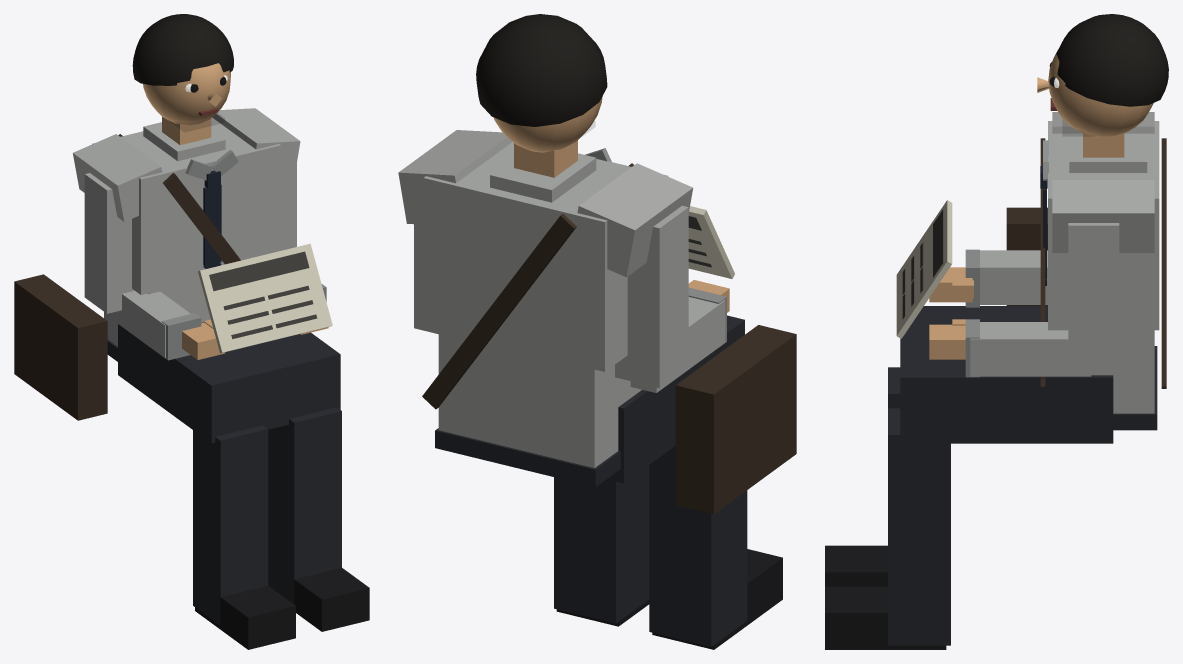
File: passenger_office_seated.glb
The picture shows the model from 3 angles, left to right: view 1: azimuth 30°, elevation 25°; view 2: azimuth 150°, elevation 25°; view 3: azimuth 270°, elevation 25°; orthographic projection. The views are drawn at different scales.
Visible parts, largest first — view 1: passenger_office_seated, HabitProp_paper, Head, Head_Skin, Body_Skin; view 2: passenger_office_seated, Head, Head_Skin, HabitProp_paper, Body_Skin; view 3: passenger_office_seated, Head, HabitProp_paper, Body_Skin, Head_Skin.
Part boxes in pixels (x1,y1,x2,y2): passenger_office_seated: (14,108,369,649); HabitProp_paper: (198,243,332,353); Head: (132,14,233,131); Head_Skin: (143,63,230,125); Body_Skin: (162,117,328,359); passenger_office_seated: (398,130,796,649); Head: (476,14,607,134); Head_Skin: (493,96,602,152); HabitProp_paper: (688,206,734,278); Body_Skin: (514,140,729,312); passenger_office_seated: (825,112,1166,649); Head: (1050,14,1168,135); HabitProp_paper: (896,200,952,338); Body_Skin: (929,133,1124,359); Head_Skin: (1037,49,1153,137).
Size of the model in its own units: 0.6675 by 1.36 by 0.7098.
